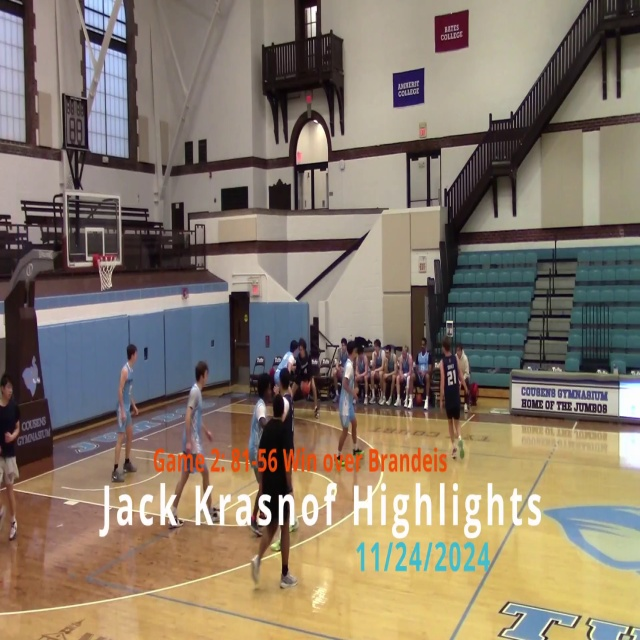Basketball: (451, 437, 464, 460), (301, 381, 311, 395)
